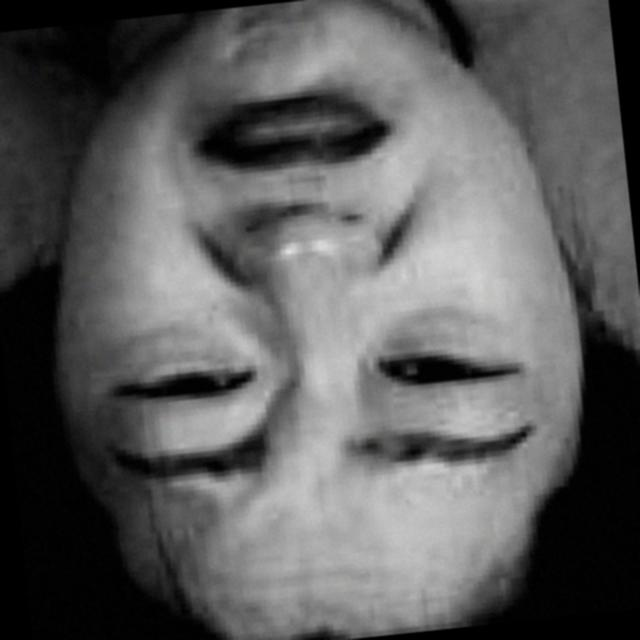disgust: (61, 0, 581, 586)
